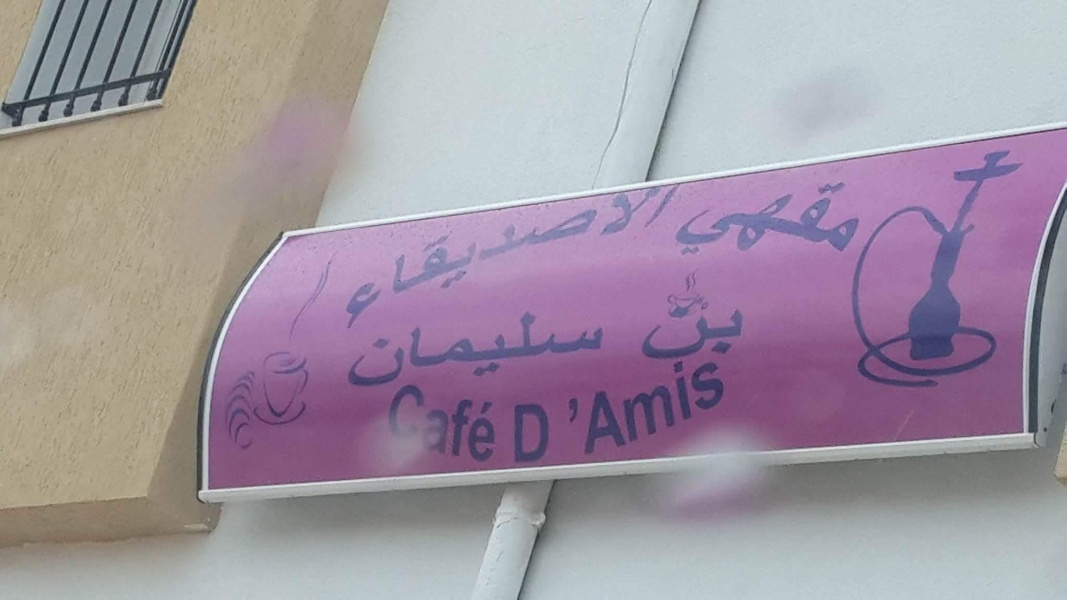text: (369, 177, 384, 334), (385, 177, 400, 334), (401, 177, 416, 334), (417, 177, 432, 334), (433, 177, 448, 334), (449, 177, 464, 334), (465, 177, 480, 334), (481, 177, 496, 334), (497, 177, 512, 334), (513, 177, 528, 334), (529, 177, 544, 334), (545, 177, 560, 334), (561, 177, 576, 334), (577, 177, 592, 334), (593, 177, 608, 334), (609, 177, 624, 334), (625, 177, 640, 334), (641, 177, 656, 334), (657, 177, 672, 334), (673, 177, 688, 334), (577, 348, 592, 467), (593, 348, 608, 467), (609, 348, 624, 467), (625, 348, 640, 467), (641, 348, 656, 467), (657, 348, 672, 467), (673, 348, 688, 467), (689, 348, 704, 467), (705, 348, 720, 467), (865, 179, 881, 282), (358, 177, 368, 334), (721, 179, 736, 282), (737, 179, 752, 282), (753, 179, 768, 282), (769, 179, 784, 282), (785, 179, 800, 282), (801, 179, 816, 282), (817, 179, 832, 282), (833, 179, 848, 282), (849, 179, 864, 282), (564, 348, 576, 467), (369, 298, 384, 391), (385, 298, 400, 391), (401, 298, 416, 391), (417, 298, 432, 391), (433, 298, 448, 391), (449, 298, 464, 391), (465, 298, 480, 391), (481, 298, 496, 391), (497, 298, 512, 391), (513, 298, 528, 391), (529, 298, 544, 391), (545, 298, 560, 391), (561, 298, 576, 391), (577, 298, 592, 391), (593, 298, 608, 391), (401, 380, 416, 468), (417, 380, 432, 468), (433, 380, 448, 468), (449, 380, 464, 468), (465, 380, 480, 468), (481, 380, 496, 468), (354, 298, 368, 391), (721, 348, 731, 467), (657, 297, 672, 364), (673, 297, 688, 364), (689, 297, 704, 364), (705, 297, 720, 364), (721, 297, 736, 364), (529, 403, 544, 465), (514, 403, 528, 465), (497, 380, 506, 468), (645, 297, 656, 364), (737, 297, 746, 364), (689, 177, 691, 334), (545, 403, 550, 465), (717, 179, 720, 282), (398, 380, 400, 468)
